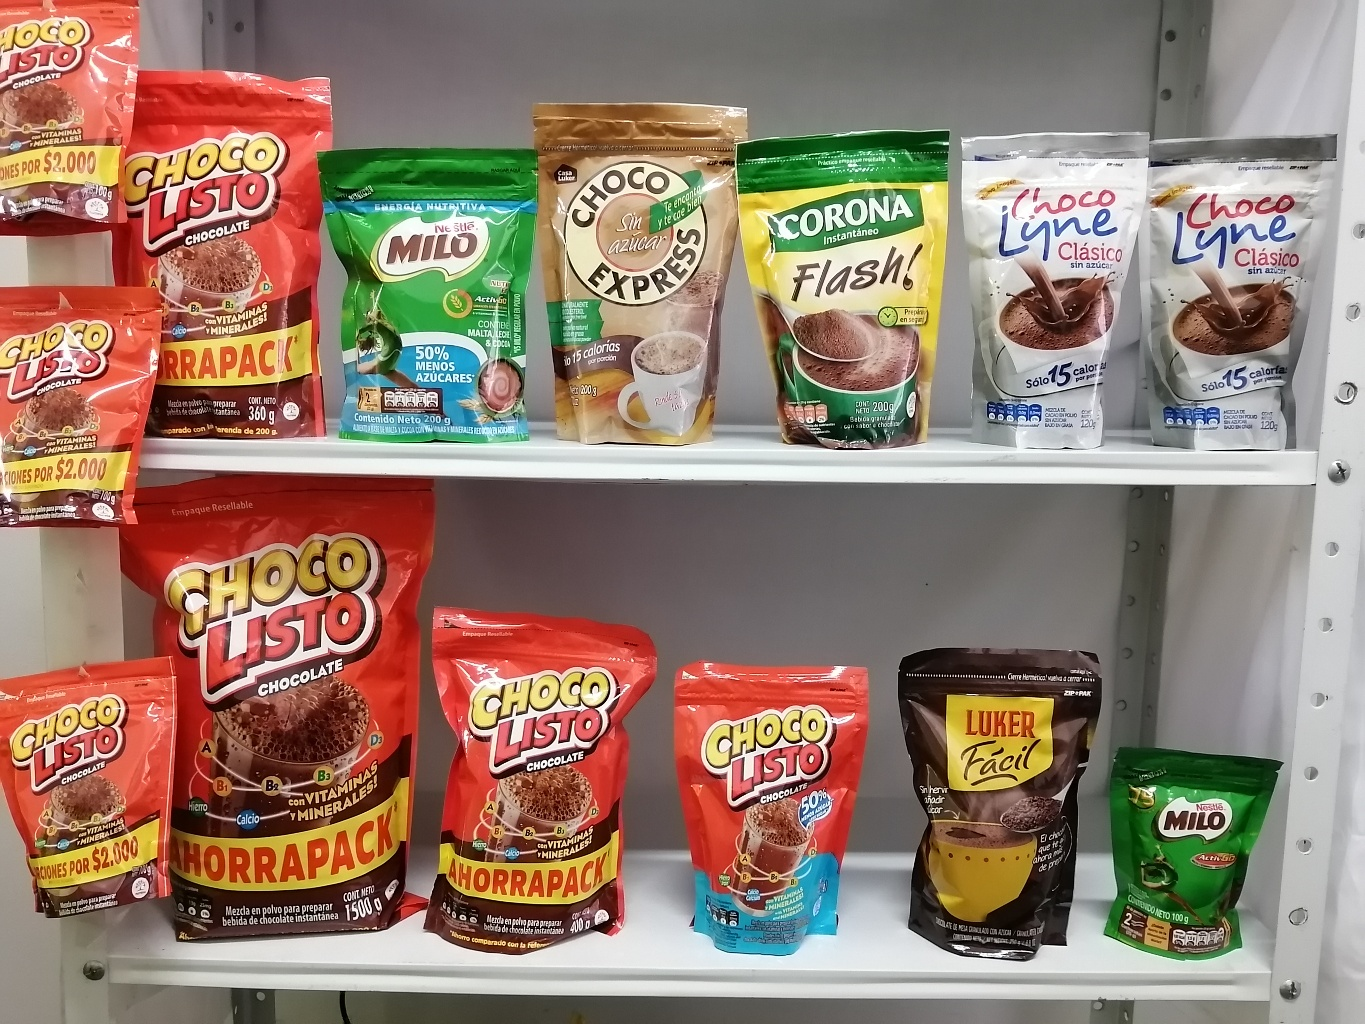COL0170103DYP1,500: (104, 459, 452, 955)
COL0170103DYP10000: (8, 653, 193, 912)
COL0170103DYP36000: (102, 65, 350, 444)
COL0170103DYP40000: (417, 598, 682, 966)
COL0170104DYP20000: (663, 644, 883, 958)
COL0170203DYP10000: (1096, 733, 1290, 966)
COL0170205DYP20000: (301, 139, 550, 445)
